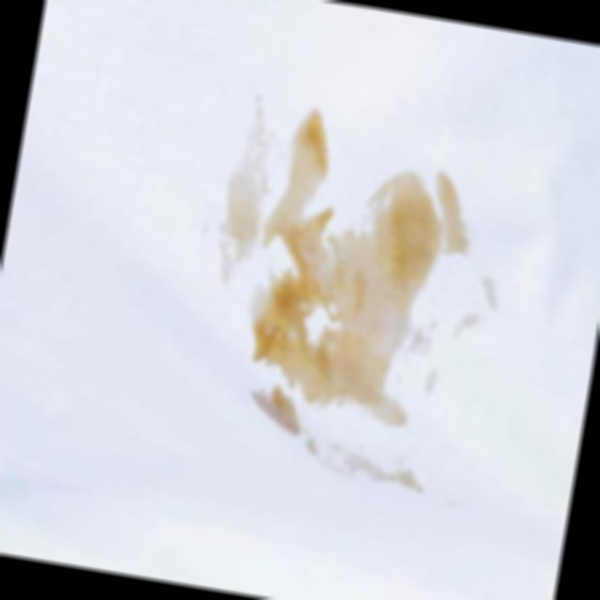coffee: (242, 108, 470, 436), (208, 100, 281, 285)
